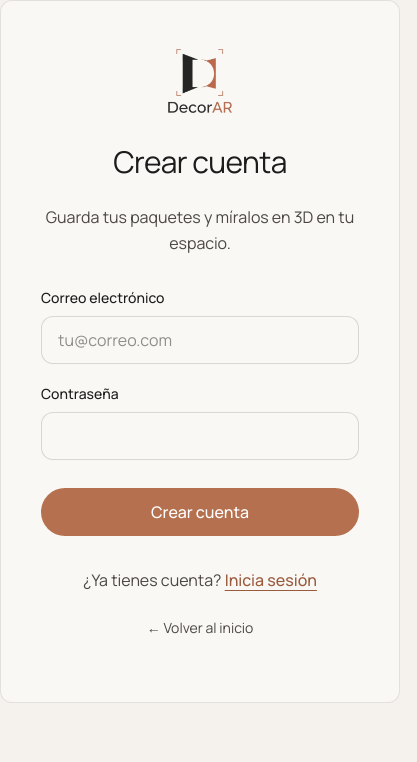
Test: AuthForm › asocia el error al campo y lo anuncia
The width and height of the screenshot is (417, 762).
Type "ana@correo.com" into the field labelled "Correo electrónico".
click(200, 340); type("ana@correo.com")  # box left=41, top=316, right=359, bottom=364
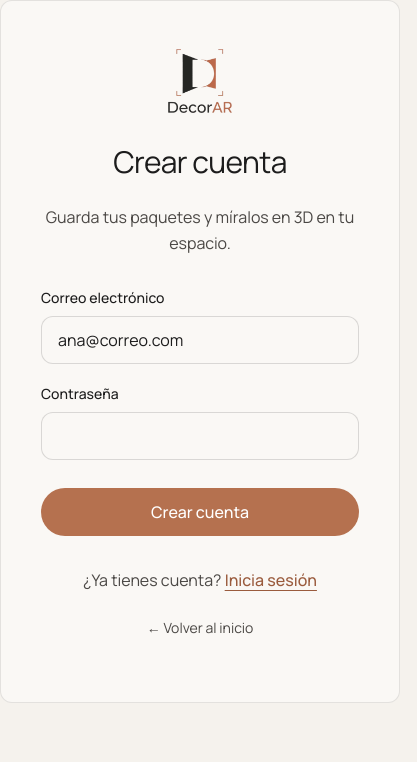
Type "secreta-123" into the password field labelled "Contraseña".
click(200, 436); type("secreta-123")  # box left=41, top=412, right=359, bottom=460
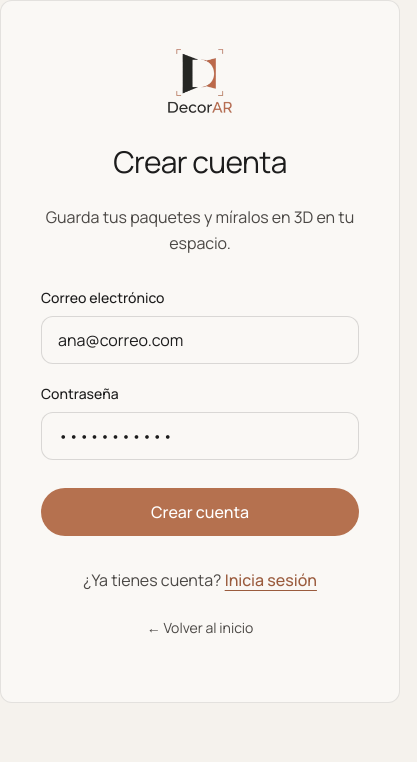
Click the button "Crear cuenta".
click(200, 512)  # box left=41, top=488, right=359, bottom=536
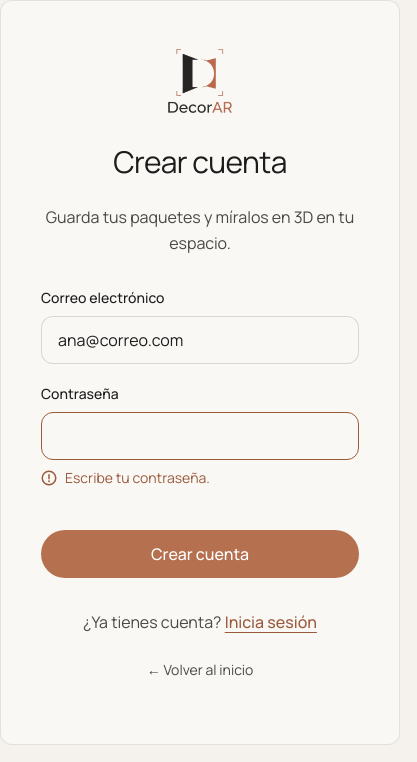
Check: the message reads "Escribe tu contraseña.", box left=65, top=468, right=210, bottom=487
